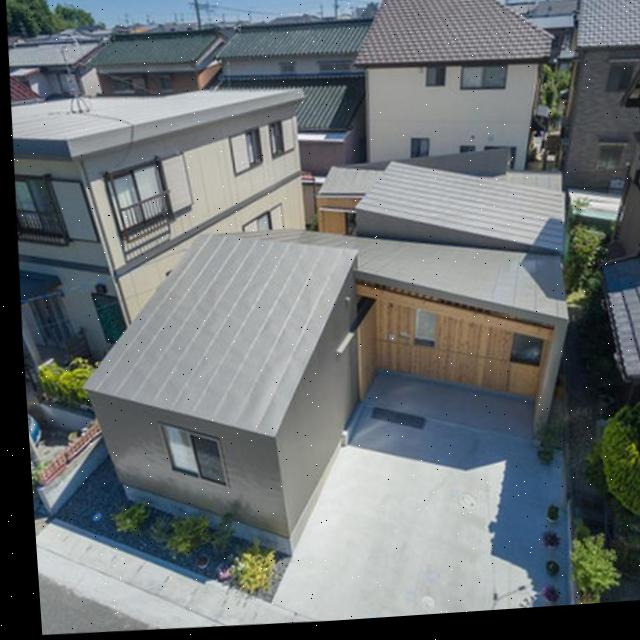building: (74, 143, 593, 573), (8, 81, 321, 336), (353, 0, 561, 182), (230, 14, 368, 170), (548, 0, 640, 197)
